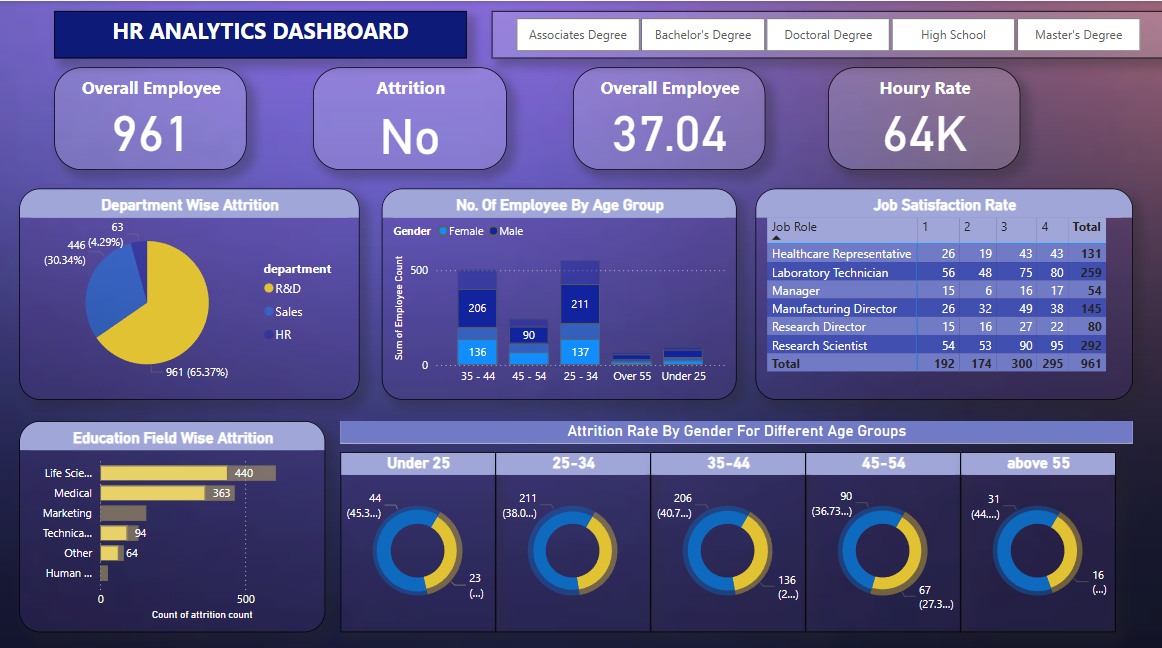

What the dashboard file says about the page in this screenshot:
{"tool":"powerbi","page":{"name":"Page 1","canvas":[1280,720],"ordinal":0},"visuals":[{"type":"card","title":"Overall Employee","fields":{"Values":["Sum(HR Data xlsx - HR data.Employee Count)"]},"box":[61.7,72.7,211.3,112.5],"z":0},{"type":"card","title":"Attrition","fields":{"Values":["Min(HR Data xlsx - HR data.Attrition)"]},"box":[345.8,72.7,212.7,112.5],"z":1000},{"type":"card","title":"Overall Employee","fields":{"Values":["Avg(HR Data xlsx - HR data.Age)"]},"box":[631.2,72.7,211.3,112.5],"z":2000},{"type":"card","title":"Houry Rate ","fields":{"Values":["Sum(HR Data xlsx - HR data.Hourly Rate)"]},"box":[911.2,72.7,211.3,112.5],"z":3000},{"type":"pieChart","title":"Department  Wise Attrition","fields":{"Category":["HR Data xlsx - HR data.Department"],"Y":["CountNonNull(HR Data xlsx - HR data.attrition count)"]},"box":[23.3,205.8,373.2,231.9],"z":4000},{"type":"columnChart","title":"No. Of Employee By Age Group","fields":{"Category":["HR Data xlsx - HR data.CF_age band"],"Y":["Sum(HR Data xlsx - HR data.Employee Count)"],"Series":["HR Data xlsx - HR data.Gender"]},"box":[421.3,205.8,389.7,231.9],"z":5000},{"type":"pivotTable","title":"Job Satisfaction Rate","fields":{"Rows":["HR Data xlsx - HR data.Job Role"],"Columns":["HR Data xlsx - HR data.Job Satisfaction"],"Values":["Sum(HR Data xlsx - HR data.Employee Count)"]},"box":[831.6,205.8,414.4,231.9],"z":6000},{"type":"barChart","title":"Education Field Wise Attrition","fields":{"Category":["HR Data xlsx - HR data.Education Field"],"Y":["CountNonNull(HR Data xlsx - HR data.attrition count)"]},"box":[23.3,461.1,336.2,231.9],"z":7000},{"type":"donutChart","title":"Under 25","fields":{"Category":["HR Data xlsx - HR data.Gender"],"Y":["CountNonNull(HR Data xlsx - HR data.attrition count)"],"Series":["HR Data xlsx - HR data.CF_age band"]},"box":[376,495.4,170.2,197.6],"z":8000},{"type":"textbox","title":"Attrition Rate By Gender For Different Age Groups","box":[376,461.1,870,24.7],"z":9000},{"type":"donutChart","title":" 25-34","fields":{"Category":["HR Data xlsx - HR data.Gender"],"Y":["CountNonNull(HR Data xlsx - HR data.attrition count)"],"Series":["HR Data xlsx - HR data.CF_age band"]},"box":[546.1,495.4,170.2,197.6],"z":10000},{"type":"donutChart","title":"35-44","fields":{"Category":["HR Data xlsx - HR data.Gender"],"Y":["CountNonNull(HR Data xlsx - HR data.attrition count)"],"Series":["HR Data xlsx - HR data.CF_age band"]},"box":[716.3,495.4,170.2,197.6],"z":11000},{"type":"donutChart","title":"45-54","fields":{"Category":["HR Data xlsx - HR data.Gender"],"Y":["CountNonNull(HR Data xlsx - HR data.attrition count)"],"Series":["HR Data xlsx - HR data.CF_age band"]},"box":[886.5,495.4,170.2,197.6],"z":12000},{"type":"donutChart","title":"above 55","fields":{"Category":["HR Data xlsx - HR data.Gender"],"Y":["CountNonNull(HR Data xlsx - HR data.attrition count)"],"Series":["HR Data xlsx - HR data.CF_age band"]},"box":[1056.6,495.4,170.2,197.6],"z":13000},{"type":"textbox","box":[61.7,11,452.8,52.1],"z":14000},{"type":"slicer","fields":{"Values":["HR Data xlsx - HR data.Education"]},"box":[542,11,736.9,52.1],"z":15000}]}

Visuals, with their boxes in screenshot pixels (x1, y1, x2, y2), scaled from the page's 1280x720 canvas onto the 1162x648 screenshot:
"Overall Employee" card: l=56, t=65, r=248, b=167
"Attrition" card: l=314, t=65, r=507, b=167
"Overall Employee" card: l=573, t=65, r=765, b=167
"Houry Rate " card: l=827, t=65, r=1019, b=167
"Department  Wise Attrition" pieChart: l=21, t=185, r=360, b=394
"No. Of Employee By Age Group" columnChart: l=382, t=185, r=736, b=394
"Job Satisfaction Rate" pivotTable: l=755, t=185, r=1131, b=394
"Education Field Wise Attrition" barChart: l=21, t=415, r=326, b=624
"Under 25" donutChart: l=341, t=446, r=496, b=624
"Attrition Rate By Gender For Different Age Groups" textbox: l=341, t=415, r=1131, b=437
" 25-34" donutChart: l=496, t=446, r=650, b=624
"35-44" donutChart: l=650, t=446, r=805, b=624
"45-54" donutChart: l=805, t=446, r=959, b=624
"above 55" donutChart: l=959, t=446, r=1114, b=624
textbox: l=56, t=10, r=467, b=57
slicer - HR Data xlsx - HR data.Education: l=492, t=10, r=1161, b=57
